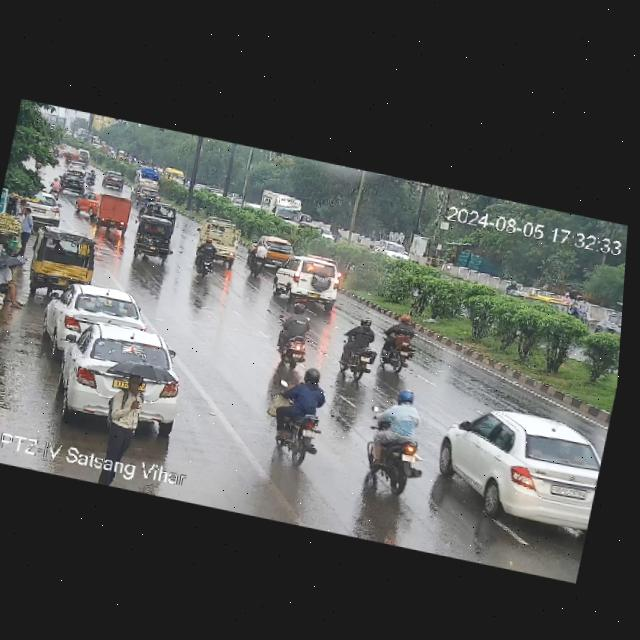car: (426, 395, 609, 535), (48, 316, 181, 432), (47, 281, 147, 359), (26, 226, 101, 297), (266, 250, 344, 314), (513, 289, 589, 323), (131, 215, 179, 267), (10, 188, 64, 226), (93, 193, 136, 234), (358, 235, 417, 263), (254, 233, 297, 268), (72, 190, 103, 222), (141, 197, 179, 219), (600, 309, 622, 342), (130, 184, 164, 204), (59, 171, 86, 194), (101, 171, 127, 191)
motorcycle: (354, 383, 437, 495), (268, 359, 339, 467), (329, 315, 384, 386), (373, 309, 430, 377), (276, 298, 313, 373), (190, 235, 224, 278), (241, 239, 272, 279), (57, 143, 94, 165), (135, 163, 165, 188), (48, 176, 64, 197), (84, 169, 98, 190)
person: (102, 368, 149, 458), (0, 259, 35, 313), (14, 207, 37, 256), (15, 198, 27, 221)
